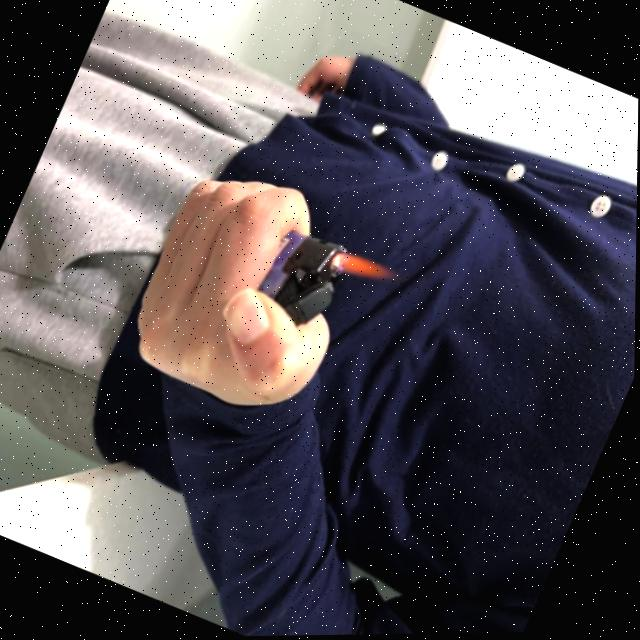Fire: (325, 246, 402, 299)
